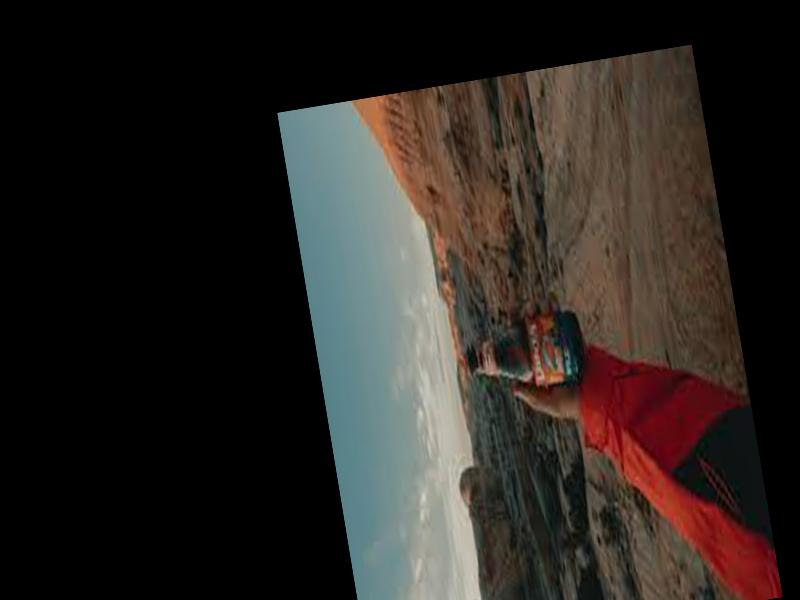Beer: (461, 305, 588, 405)
